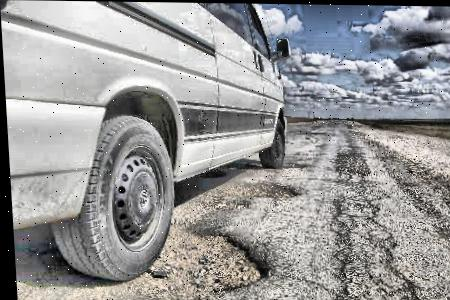pothole: (125, 219, 271, 300), (221, 178, 297, 199), (277, 159, 305, 168)
